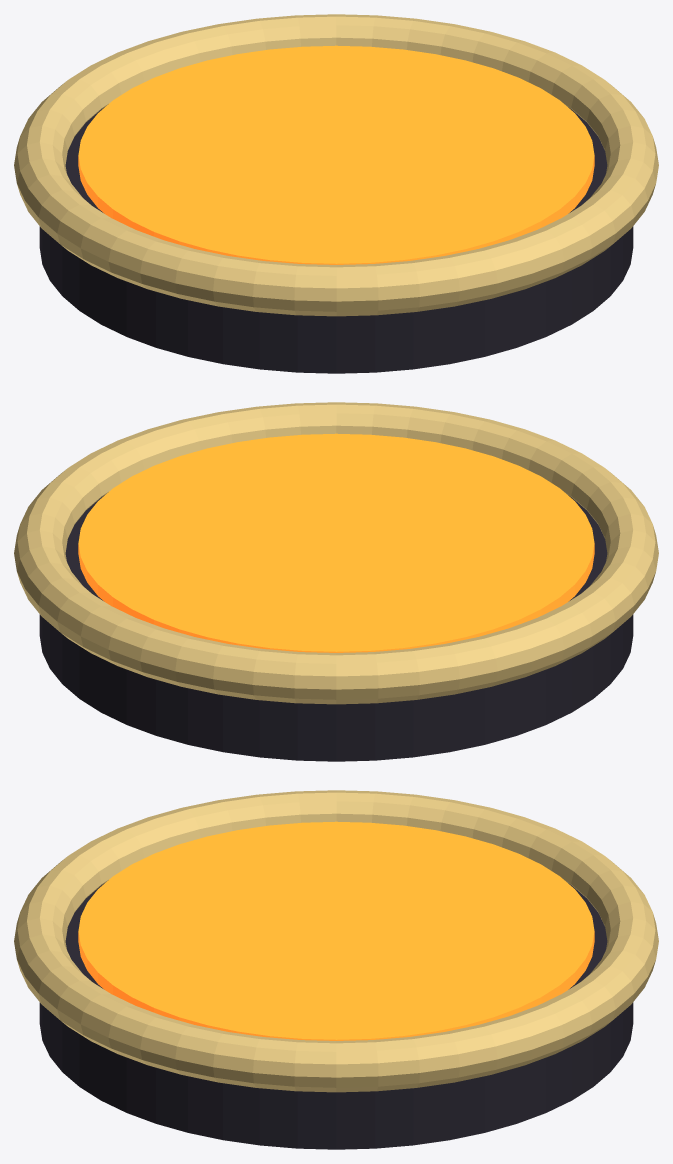
Rendered from SM_Keeper_Seraphs_Body.fbx.
3 renders of one model, top to bottom at view 1: azimuth 30°, elevation 25°; view 2: azimuth 150°, elevation 25°; view 3: azimuth 270°, elevation 25°, orthographic.
Parts seen in each view (by area): view 1: SM_Keeper_Seraphs_Body; view 2: SM_Keeper_Seraphs_Body; view 3: SM_Keeper_Seraphs_Body.
Part boxes in pixels (<box>): SM_Keeper_Seraphs_Body: <box>14,14,658,373</box>; SM_Keeper_Seraphs_Body: <box>14,402,658,761</box>; SM_Keeper_Seraphs_Body: <box>14,790,658,1149</box>.
Bounding box in the file's own units: 2.5 × 0.455 × 2.5.
